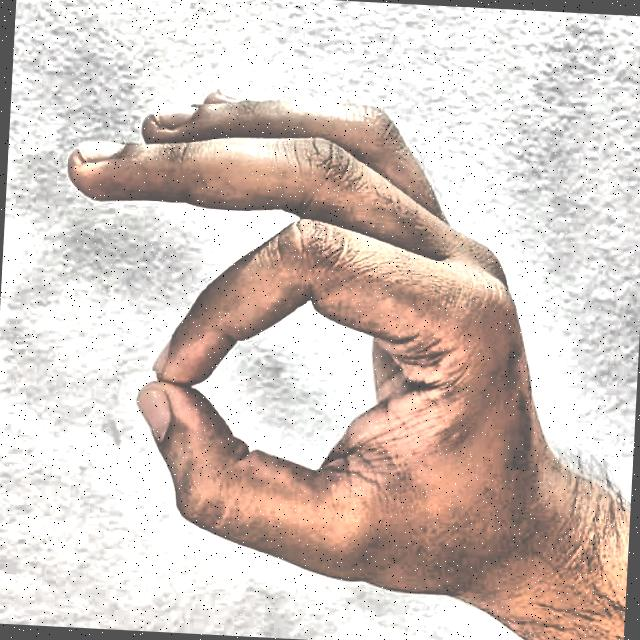Yo: (23, 9, 605, 640)
